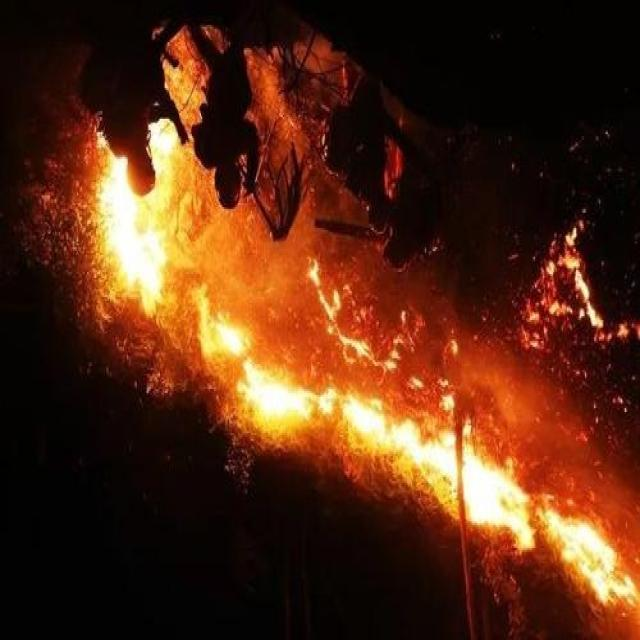fire: (97, 119, 456, 513), (463, 424, 639, 603)
